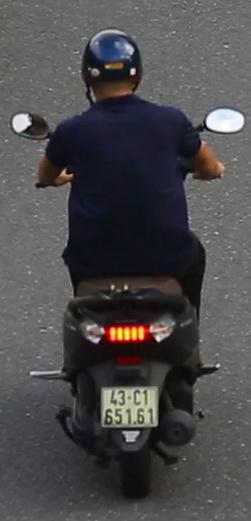LP: (99, 382, 161, 430)
helmet: (79, 25, 146, 105)
